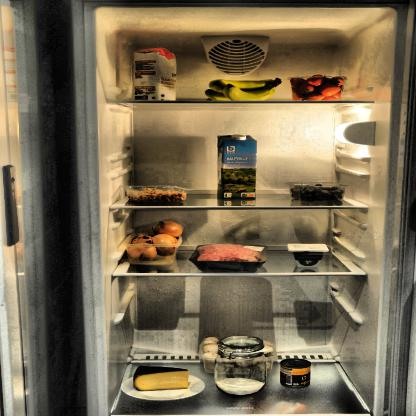banana: (202, 78, 286, 101)
blueberries: (289, 182, 345, 204)
cheese: (132, 364, 192, 392)
corn: (278, 356, 311, 390)
ground_beef: (191, 242, 263, 274)
milk: (217, 131, 260, 205)
mushrooms: (199, 337, 275, 373)
onion: (124, 220, 184, 265)
shrimp: (124, 185, 189, 205)
strawberries: (286, 72, 348, 100)
